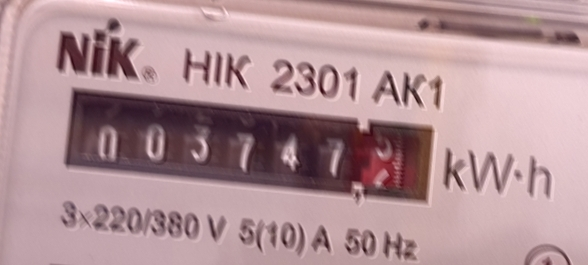0: (97, 125, 122, 162), (145, 123, 168, 163)
3: (191, 125, 213, 164)
4: (279, 132, 303, 173)
5: (374, 132, 396, 162)
6: (372, 167, 392, 190)
7: (323, 136, 348, 178), (234, 132, 257, 173)
screen: (55, 79, 452, 220)
